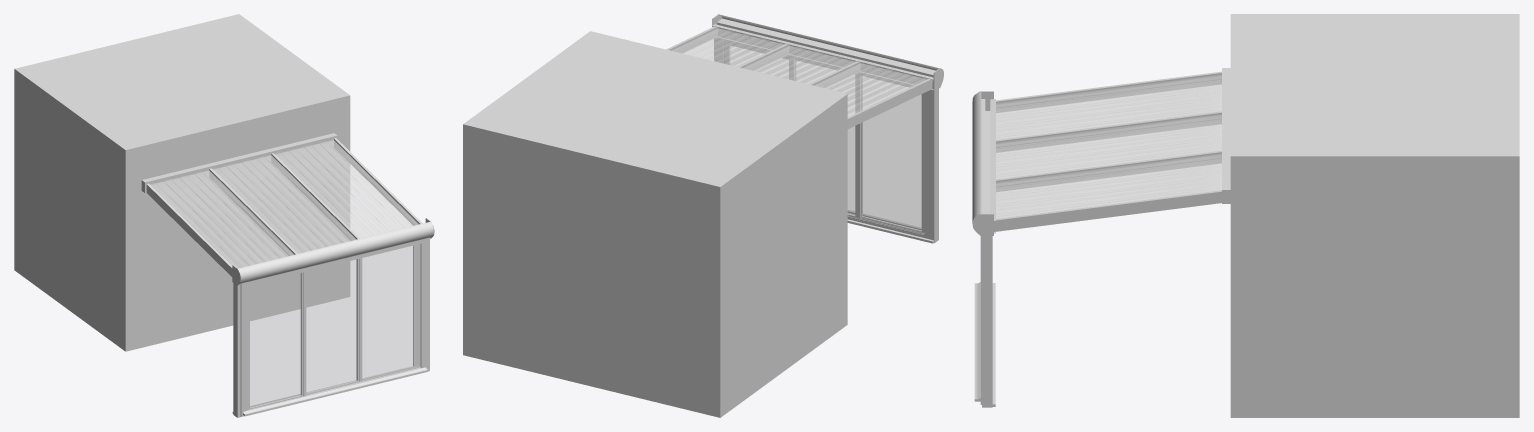
Rendered from BasicVeranda10.glb.
3 renders of one model, left to right at view 1: azimuth 30°, elevation 25°; view 2: azimuth 150°, elevation 25°; view 3: azimuth 270°, elevation 25°, orthographic. The views are drawn at different scales.
Visible parts, largest first — view 1: Huis, WindowPanelLeft, WindowPanelMid, WindowPanelRight, PolyKanaalplaat03, PolyKanaalplaat01, PolyKanaalplaat02, WindowFrame, GootProfiel, MuurProfiel, Legs01Left, EindLiggerLinks (+4 smaller); view 2: Huis, WindowPanelLeft, GootProfiel, PolyKanaalplaat03, WindowFrame, PolyKanaalplaat01, PolyKanaalplaat02, WindowPanelMid, Legs01Left, EindLiggerLinks, WindowPanelRight, Ligger01 (+2 smaller); view 3: Huis, PolyKanaalplaat03, PolyKanaalplaat01, PolyKanaalplaat02, EindLiggerRechts, Ligger02, Ligger01, EindLiggerLinks, GootProfiel, WindowFrame, Legs01Right, MuurProfiel.
Part boxes in pixels (box(x1,y1,x2,y2)): Huis: box(14, 14, 350, 351); WindowPanelLeft: box(247, 272, 306, 409); WindowPanelMid: box(300, 258, 362, 394); WindowPanelRight: box(356, 244, 418, 380); PolyKanaalplaat03: box(150, 170, 293, 268); PolyKanaalplaat01: box(275, 140, 418, 238); PolyKanaalplaat02: box(213, 155, 356, 253); WindowFrame: box(232, 238, 428, 416); GootProfiel: box(238, 221, 433, 283); MuurProfiel: box(141, 133, 337, 193); Legs01Left: box(233, 283, 240, 417); EindLiggerLinks: box(146, 183, 232, 276); Huis: box(463, 31, 847, 417); WindowPanelLeft: box(861, 76, 924, 232); GootProfiel: box(712, 14, 939, 91); PolyKanaalplaat03: box(814, 63, 927, 116); WindowFrame: box(717, 39, 933, 243); PolyKanaalplaat01: box(671, 28, 784, 66); PolyKanaalplaat02: box(743, 46, 855, 84); WindowPanelMid: box(795, 60, 861, 218); Legs01Left: box(930, 89, 938, 243); EindLiggerLinks: box(847, 79, 932, 128); WindowPanelRight: box(724, 42, 794, 80); Ligger01: box(738, 44, 789, 70); Huis: box(1230, 14, 1519, 417); PolyKanaalplaat03: box(996, 75, 1221, 139); PolyKanaalplaat01: box(996, 154, 1221, 218); PolyKanaalplaat02: box(996, 114, 1221, 179); EindLiggerRechts: box(994, 190, 1221, 231); Ligger02: box(996, 111, 1221, 152); Ligger01: box(996, 150, 1221, 191); EindLiggerLinks: box(996, 71, 1221, 112); GootProfiel: box(972, 92, 995, 233); WindowFrame: box(974, 112, 995, 406); Legs01Right: box(982, 236, 992, 407); MuurProfiel: box(1222, 68, 1230, 203).
Size of the model in its own units: 35 by 30 by 56.84.
3 materials, 1 textured.
